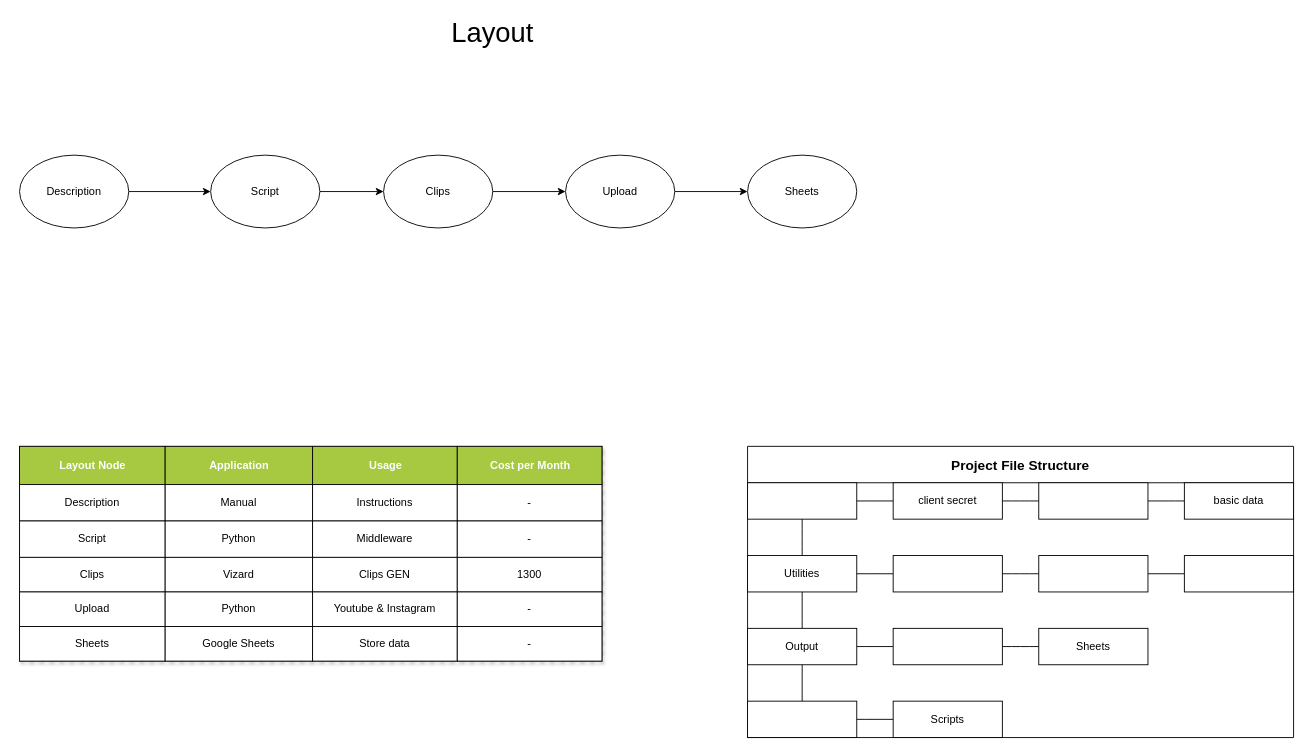
The diagram is 1309 pixels wide and 753 high, and some of its shapes have lost their labels. The shapes that lost their labels are listed below. From the top down, each one's centre as x and y in pixels, then its label:
At pixel 802 500: "Keys".
At pixel 1093 500: "api".
At pixel 947 573: "Youtube".
At pixel 1093 573: "Open API".
At pixel 1238 573: "Runware".
At pixel 947 646: "Files".
At pixel 802 719: "Main".
